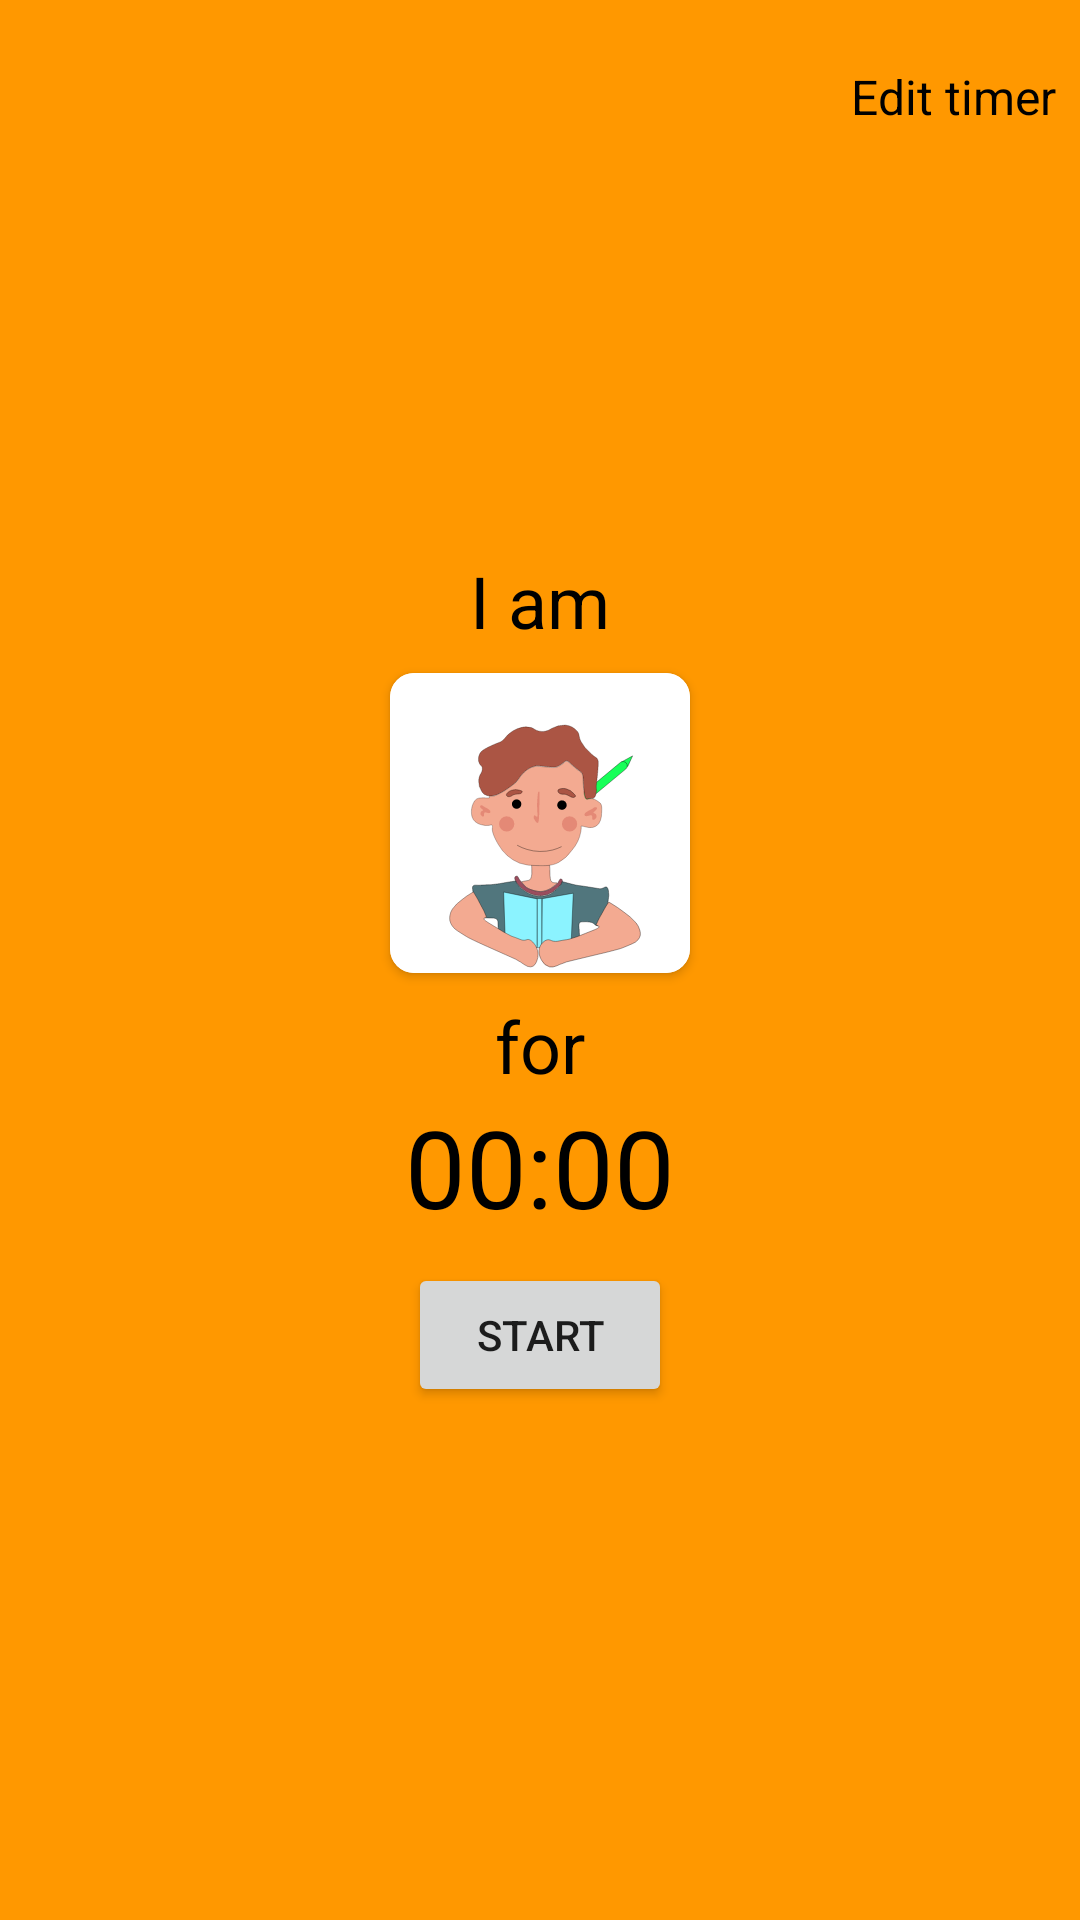

Icons on this 1080x1920 Android screen, each with its box as (x1, y1, x2, y2):
learning: (390, 673, 690, 973)
